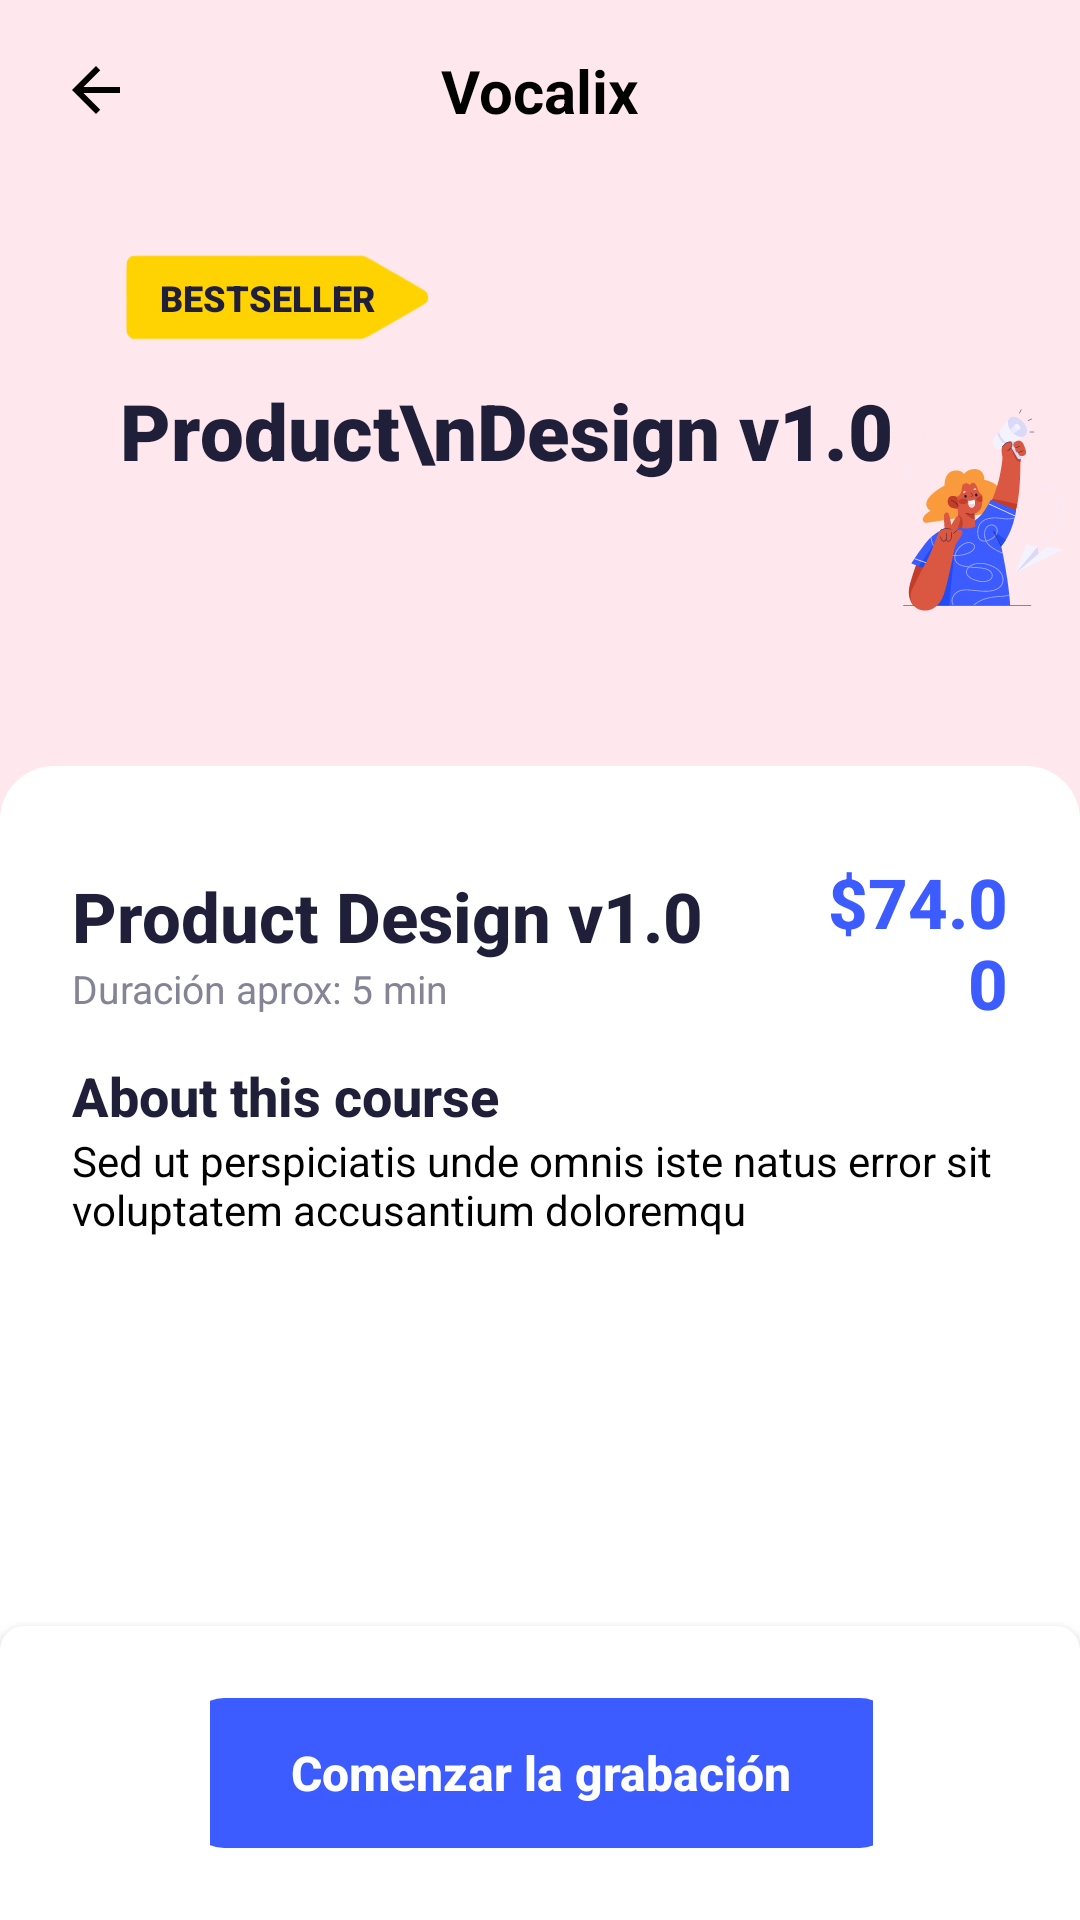

Screen size 1080x1920. Icon name, then its center in pixels as (x,y):
illustration: (970,510)
Navigate back to the previous screen: (96,90)
